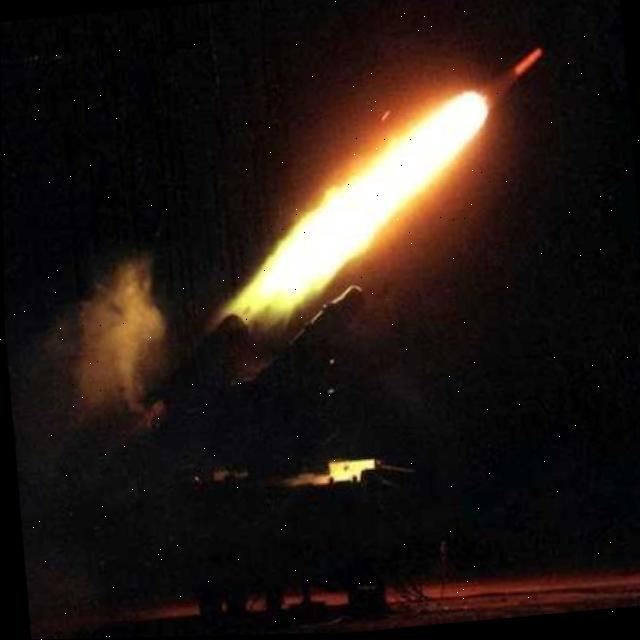missile: (444, 35, 561, 128)
